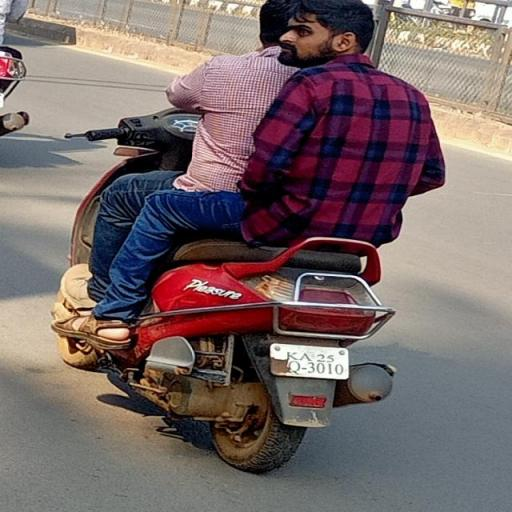bike: (50, 0, 452, 477)
numberplate: (266, 341, 356, 384)
withouthelmet: (281, 2, 369, 67), (262, 0, 286, 51)
